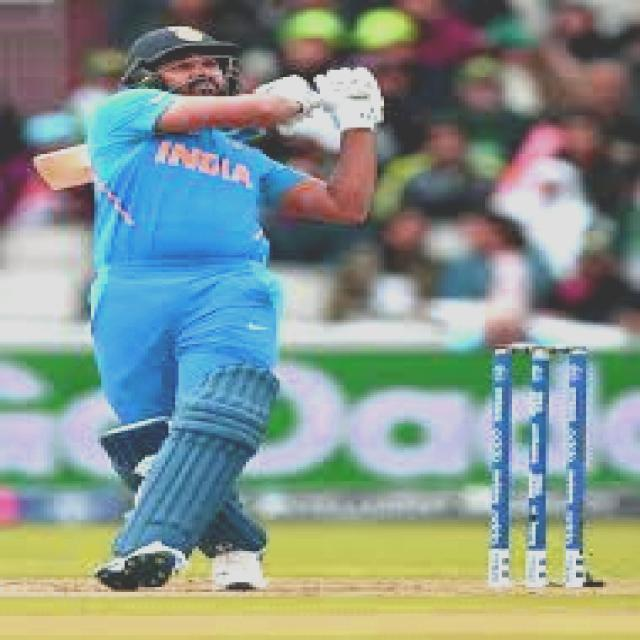toe: (25, 150, 67, 197)
